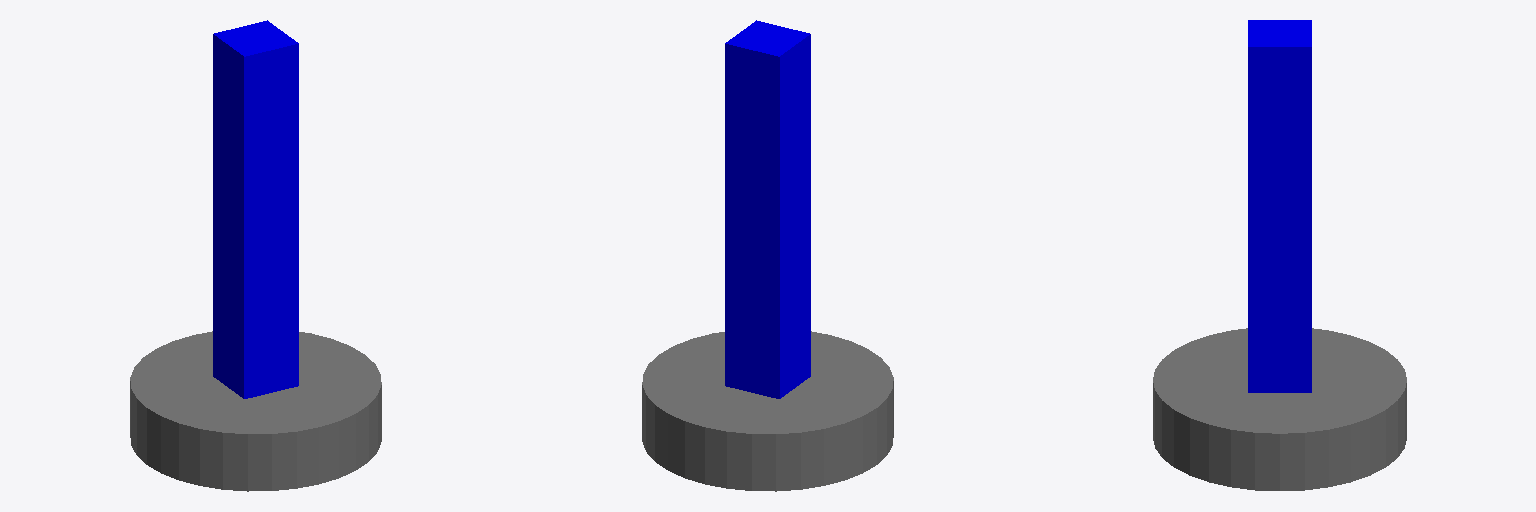
URDF robot description (simple_bot):
<?xml version="1.0"?>
<robot name="simple_bot">

  <link name="base_link">
    <visual>
      <geometry>
        <cylinder length="0.05" radius="0.1"/>
      </geometry>
      <origin xyz="0 0 0.025" rpy="0 0 0"/>
      <material name="gray">
        <color rgba="0.5 0.5 0.5 1"/>
      </material>
    </visual>
    
    <collision>
      <geometry>
        <cylinder length="0.05" radius="0.1"/>
      </geometry>
      <origin xyz="0 0 0.025" rpy="0 0 0"/>
    </collision>

    <inertial>
      <origin xyz="0 0 0.025" rpy="0 0 0"/>
      <mass value="5.0"/>
      <inertia ixx="0.0135416667" ixy="0.0" ixz="0.0" iyy="0.0135416667" iyz="0.0" izz="0.025"/>
    </inertial>
  </link>

  <!-- Z축 주위로 회전하므로 축대칭 링크의 자세 변화는 외형만으로 관찰하기 어렵다.
       RViz의 TF 또는 JointState 값으로 회전을 판정한다. -->
  <joint name="joint1" type="revolute">
    <parent link="base_link"/>
    <child link="link1"/>
    <origin xyz="0 0 0.05" rpy="0 0 0"/>
    <axis xyz="0 0 1"/>
    <limit lower="-1.57" upper="1.57" effort="100" velocity="1.0"/>
  </joint>

  <link name="link1">
    <visual>
      <geometry>
        <box size="0.05 0.05 0.3"/> </geometry>
      <origin xyz="0 0 0.15" rpy="0 0 0"/>
      <material name="blue">
        <color rgba="0 0 1 1"/>
      </material>
    </visual>
    
    <collision>
      <geometry>
        <box size="0.05 0.05 0.3"/>
      </geometry>
      <origin xyz="0 0 0.15" rpy="0 0 0"/>
    </collision>

    <inertial>
      <origin xyz="0 0 0.15" rpy="0 0 0"/>
      <mass value="1.0"/>
      <inertia ixx="0.0077083333" ixy="0.0" ixz="0.0" iyy="0.0077083333" iyz="0.0" izz="0.0004166667"/>
    </inertial>
  </link>

</robot>

--- Render facts (derived) ---
Views: 3 orthographic renders of the robot side by side, from view 1: azimuth 30°, elevation 25°; view 2: azimuth 150°, elevation 25°; view 3: azimuth 270°, elevation 25°.
Model simple_bot with 2 links and 1 joints (1 revolute), rooted at base_link, posed every joint at zero.
Links seen in each view (by area): view 1: link1, base_link; view 2: link1, base_link; view 3: base_link, link1.
Link boxes in pixels (x1=…): link1: x1=213, y1=20, x2=298, y2=398; base_link: x1=130, y1=331, x2=381, y2=491; link1: x1=725, y1=20, x2=810, y2=398; base_link: x1=642, y1=331, x2=893, y2=491; base_link: x1=1153, y1=328, x2=1406, y2=490; link1: x1=1248, y1=20, x2=1311, y2=392.
Size in the robot's own frame: 0.2 by 0.2 by 0.35 metres.
Geometry: primitives only (box / cylinder / sphere), no mesh files.
